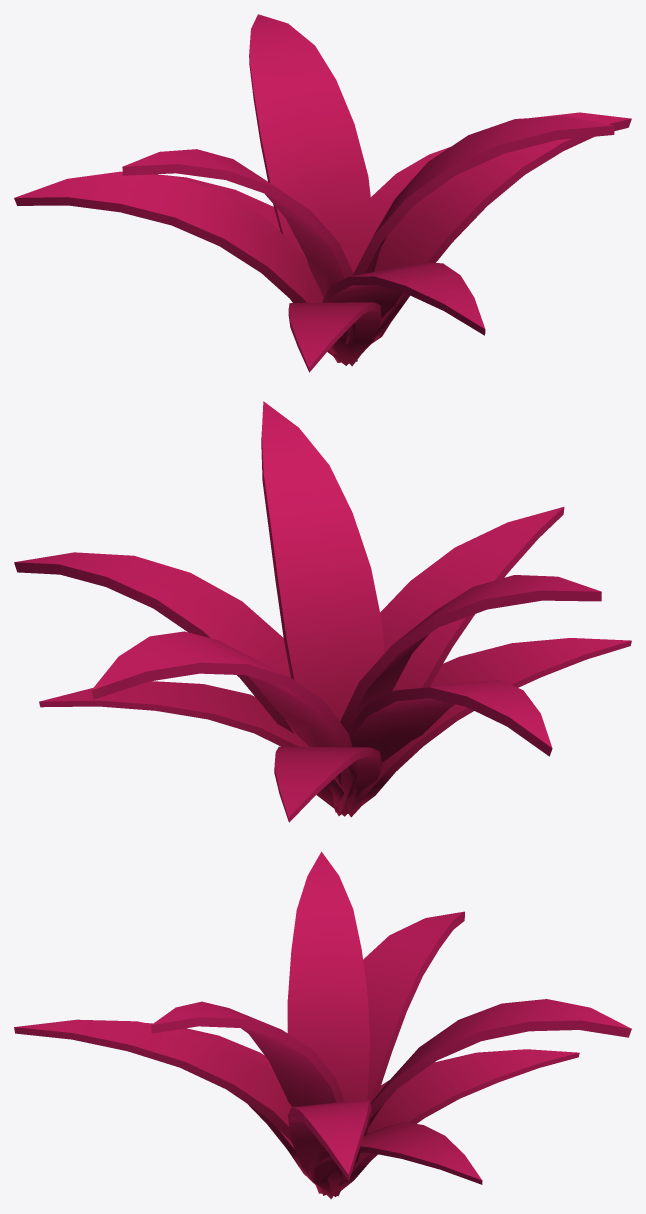
File: Plant2.fbx
3 renders of one model, top to bottom at view 1: azimuth 30°, elevation 25°; view 2: azimuth 150°, elevation 25°; view 3: azimuth 270°, elevation 25°, orthographic. The views are drawn at different scales.
Parts seen in each view (by area): view 1: Plant2; view 2: Plant2; view 3: Plant2.
Part boxes in pixels (x1,y1,x2,y2): Plant2: (14, 14, 631, 372); Plant2: (14, 401, 631, 822); Plant2: (14, 851, 631, 1199).
Size of the model in its own units: 0.5612 by 0.257 by 0.578.
